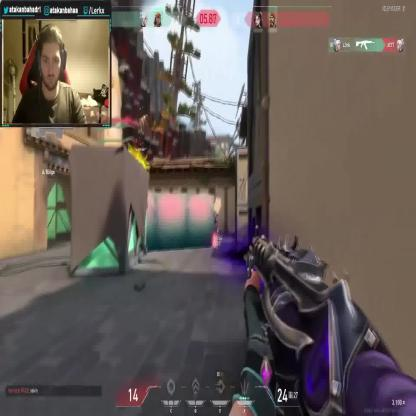enemy: (212, 207, 219, 240)
enemy_head: (216, 209, 219, 215)
